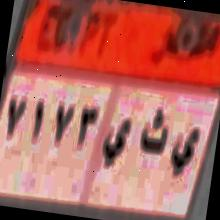1: (24, 96, 48, 156)
3: (75, 99, 102, 156)
7: (2, 92, 28, 148), (51, 95, 75, 149)
thaa: (136, 100, 171, 166)
yaa: (98, 111, 132, 176), (167, 118, 200, 182)
